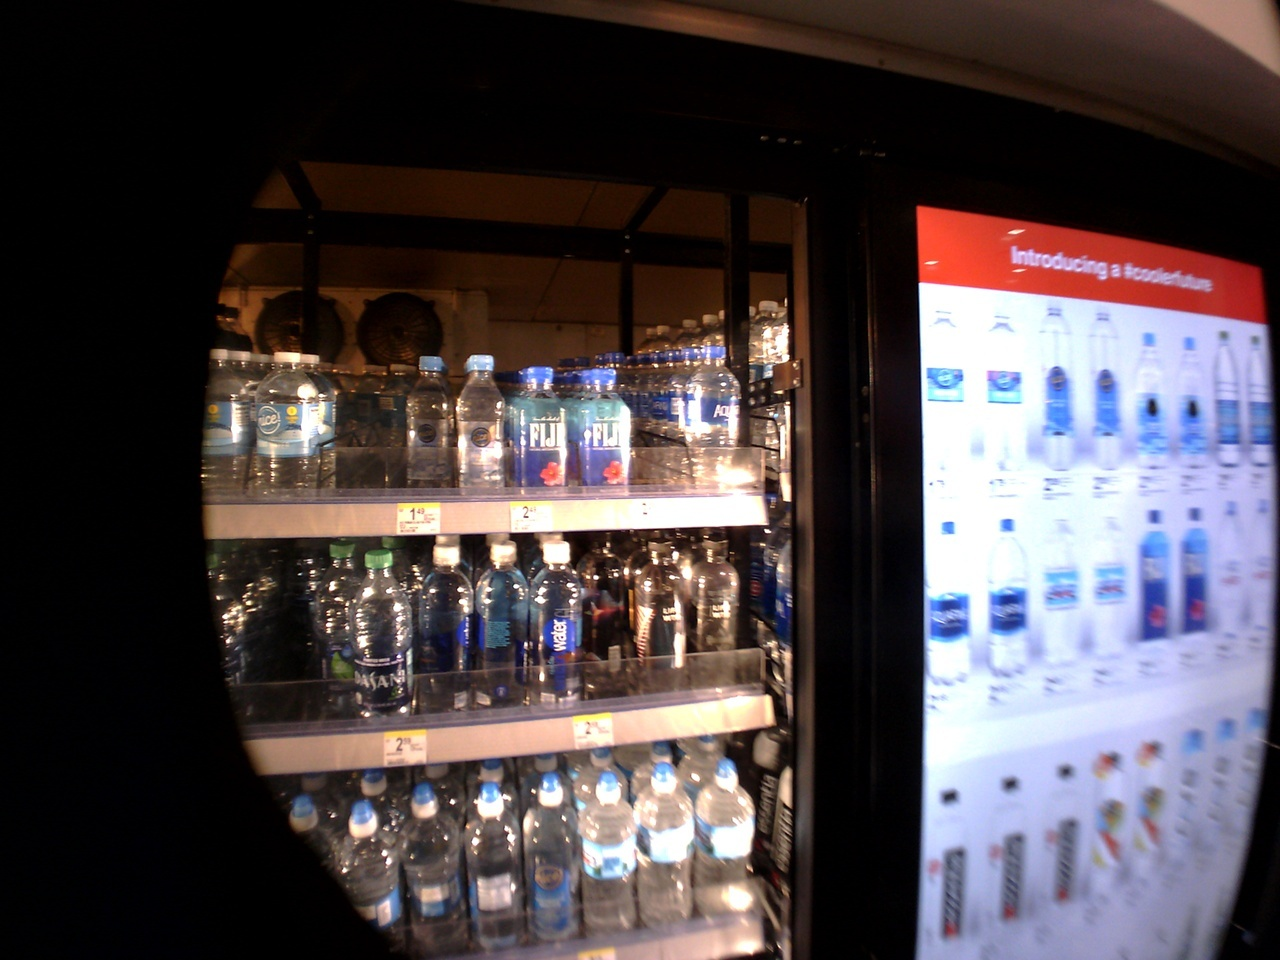shelf: (191, 746, 804, 944), (176, 552, 766, 753), (188, 330, 739, 526)
